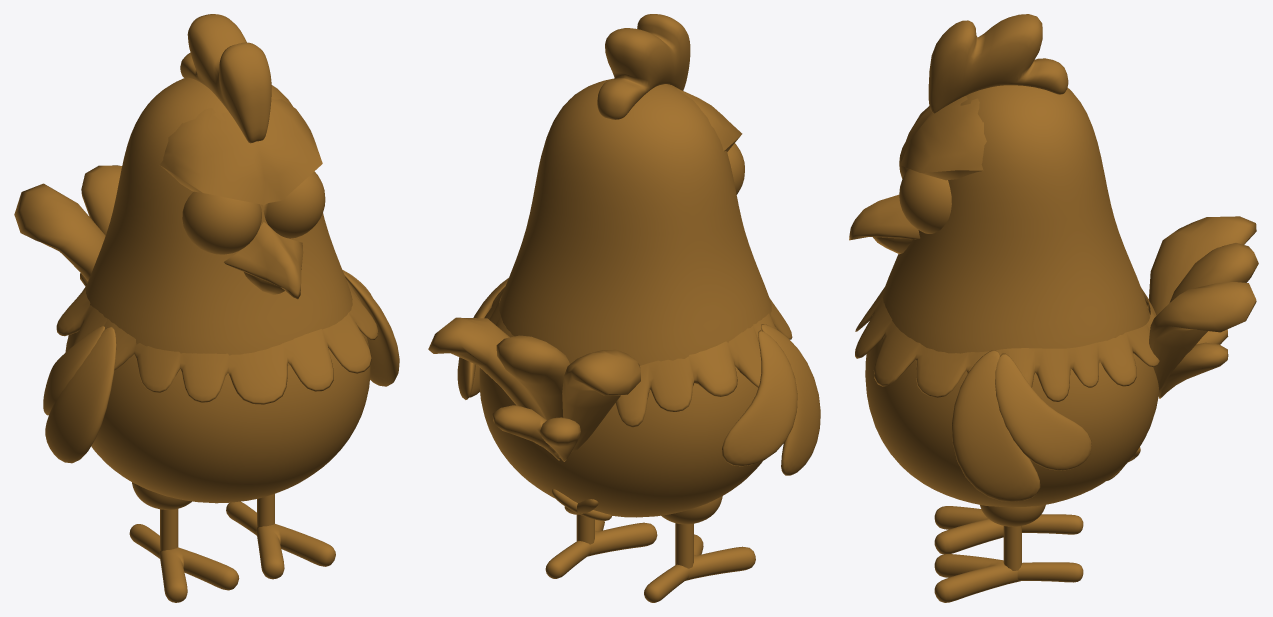
The model's file is ChickenProxy02.fbx.
3 renders of one model, left to right at view 1: azimuth 30°, elevation 25°; view 2: azimuth 150°, elevation 25°; view 3: azimuth 270°, elevation 25°, orthographic.
Parts seen in each view (by area): view 1: ChickenProxy01; view 2: ChickenProxy01; view 3: ChickenProxy01.
Part boxes in pixels (x1,y1,x2,y2): ChickenProxy01: (14, 14, 399, 602); ChickenProxy01: (428, 14, 820, 602); ChickenProxy01: (849, 14, 1258, 602).
Bounding box in the file's own units: 52.67 × 82.21 × 55.82.
